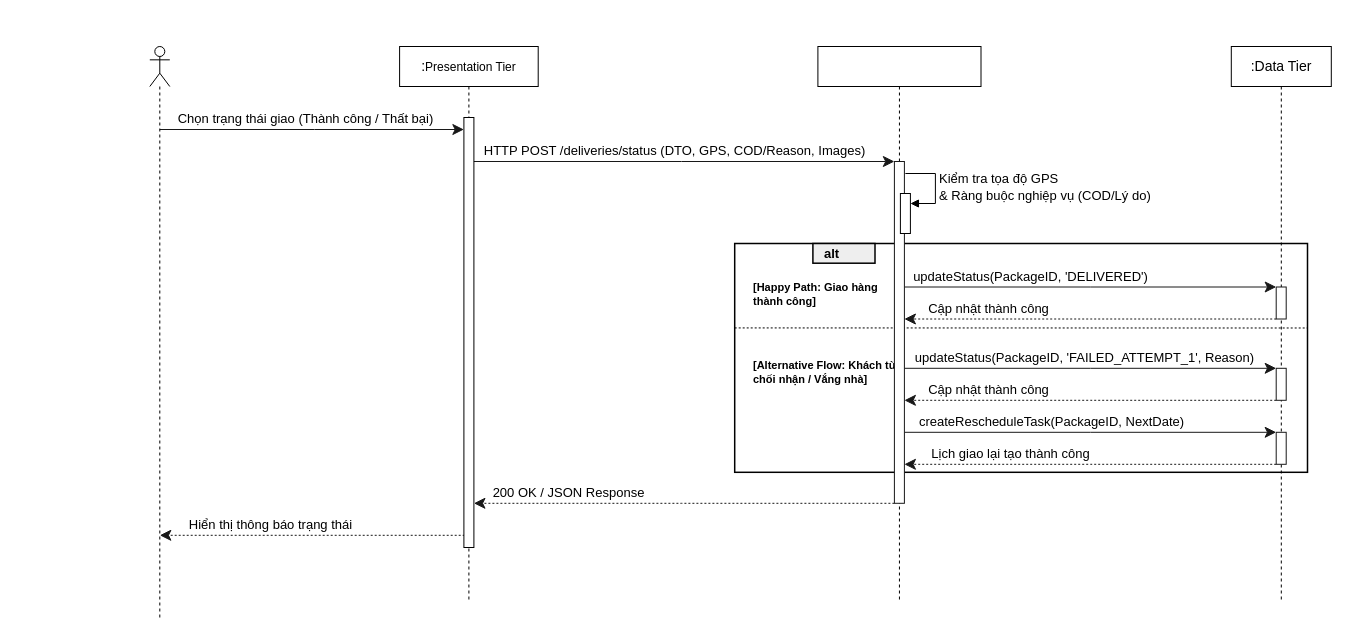
Some shapes in this 1349 by 638 pixel diagram are drawn without their labels. The box of each missing label's shape, as (x1, y1, x2, y2) in pixels:
: Business Logic Tier: (817, 46, 981, 600)
Tài xế: (149, 46, 170, 620)
